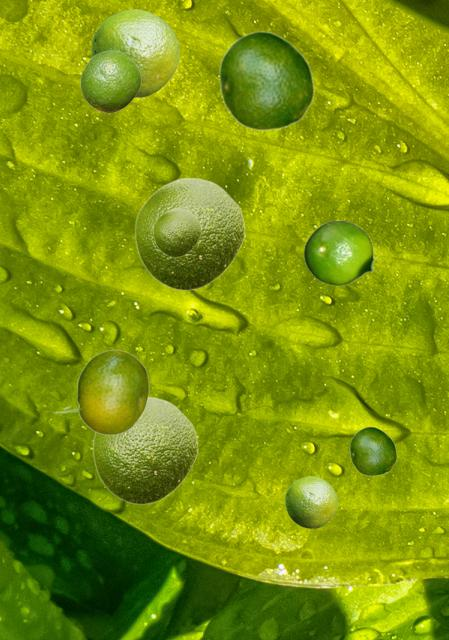calamansi: (134, 177, 244, 290), (92, 396, 197, 504), (218, 30, 314, 130), (52, 349, 148, 434), (91, 9, 178, 96), (303, 220, 381, 285), (80, 50, 140, 112), (285, 476, 336, 527), (349, 426, 396, 475), (153, 208, 200, 256)
